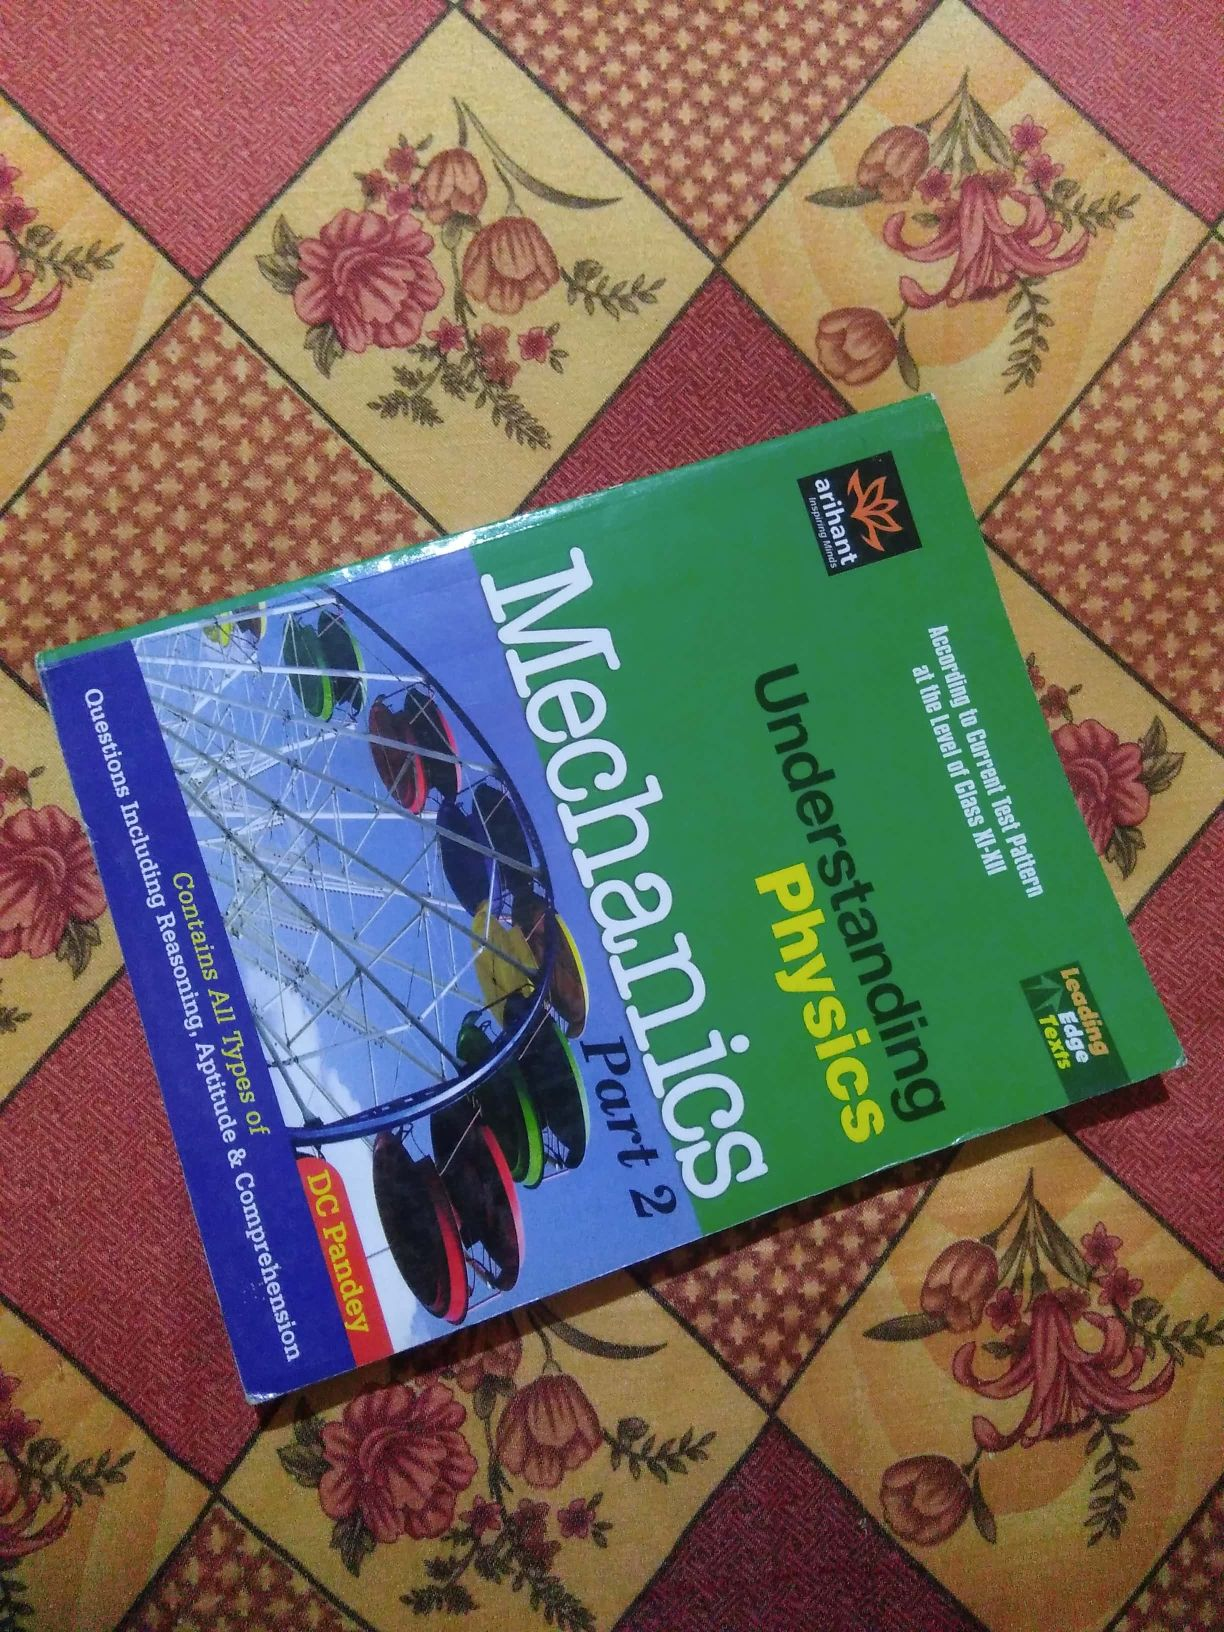mechanics: (5, 544, 1183, 1398)
